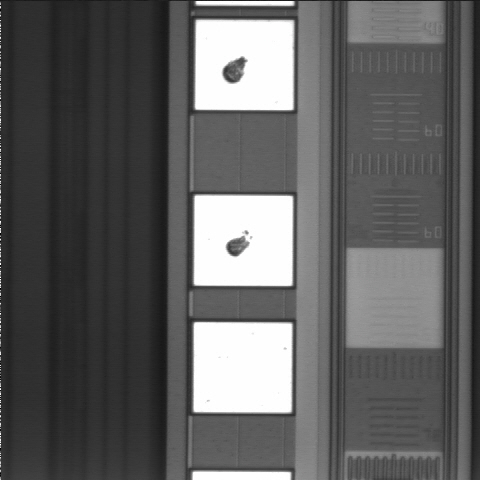pad: (194, 195, 293, 286), (194, 322, 292, 413), (195, 20, 294, 110)
